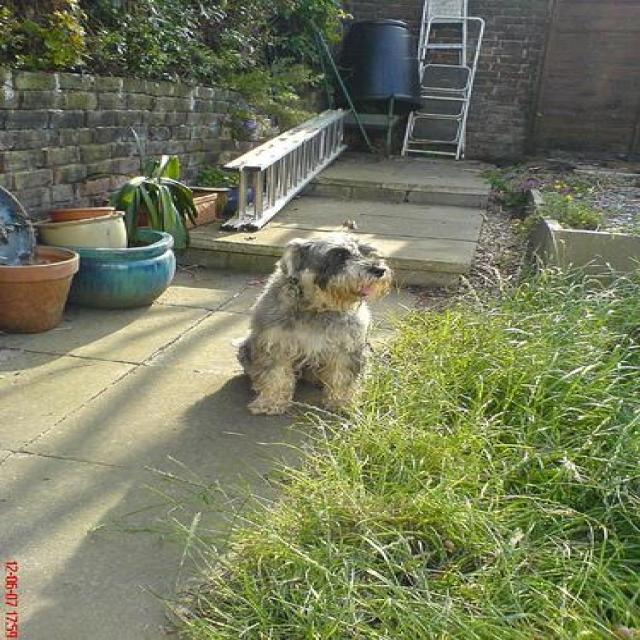standard_schnauzer: (232, 225, 393, 420)
